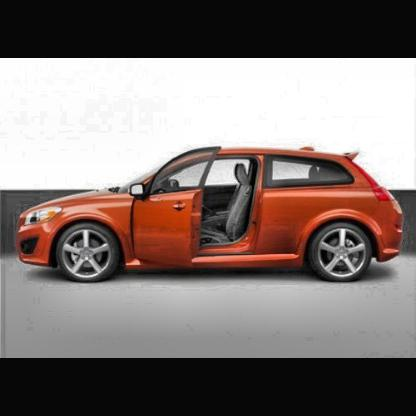Volvo C30 Hatchback 2012: (19, 147, 404, 285)
